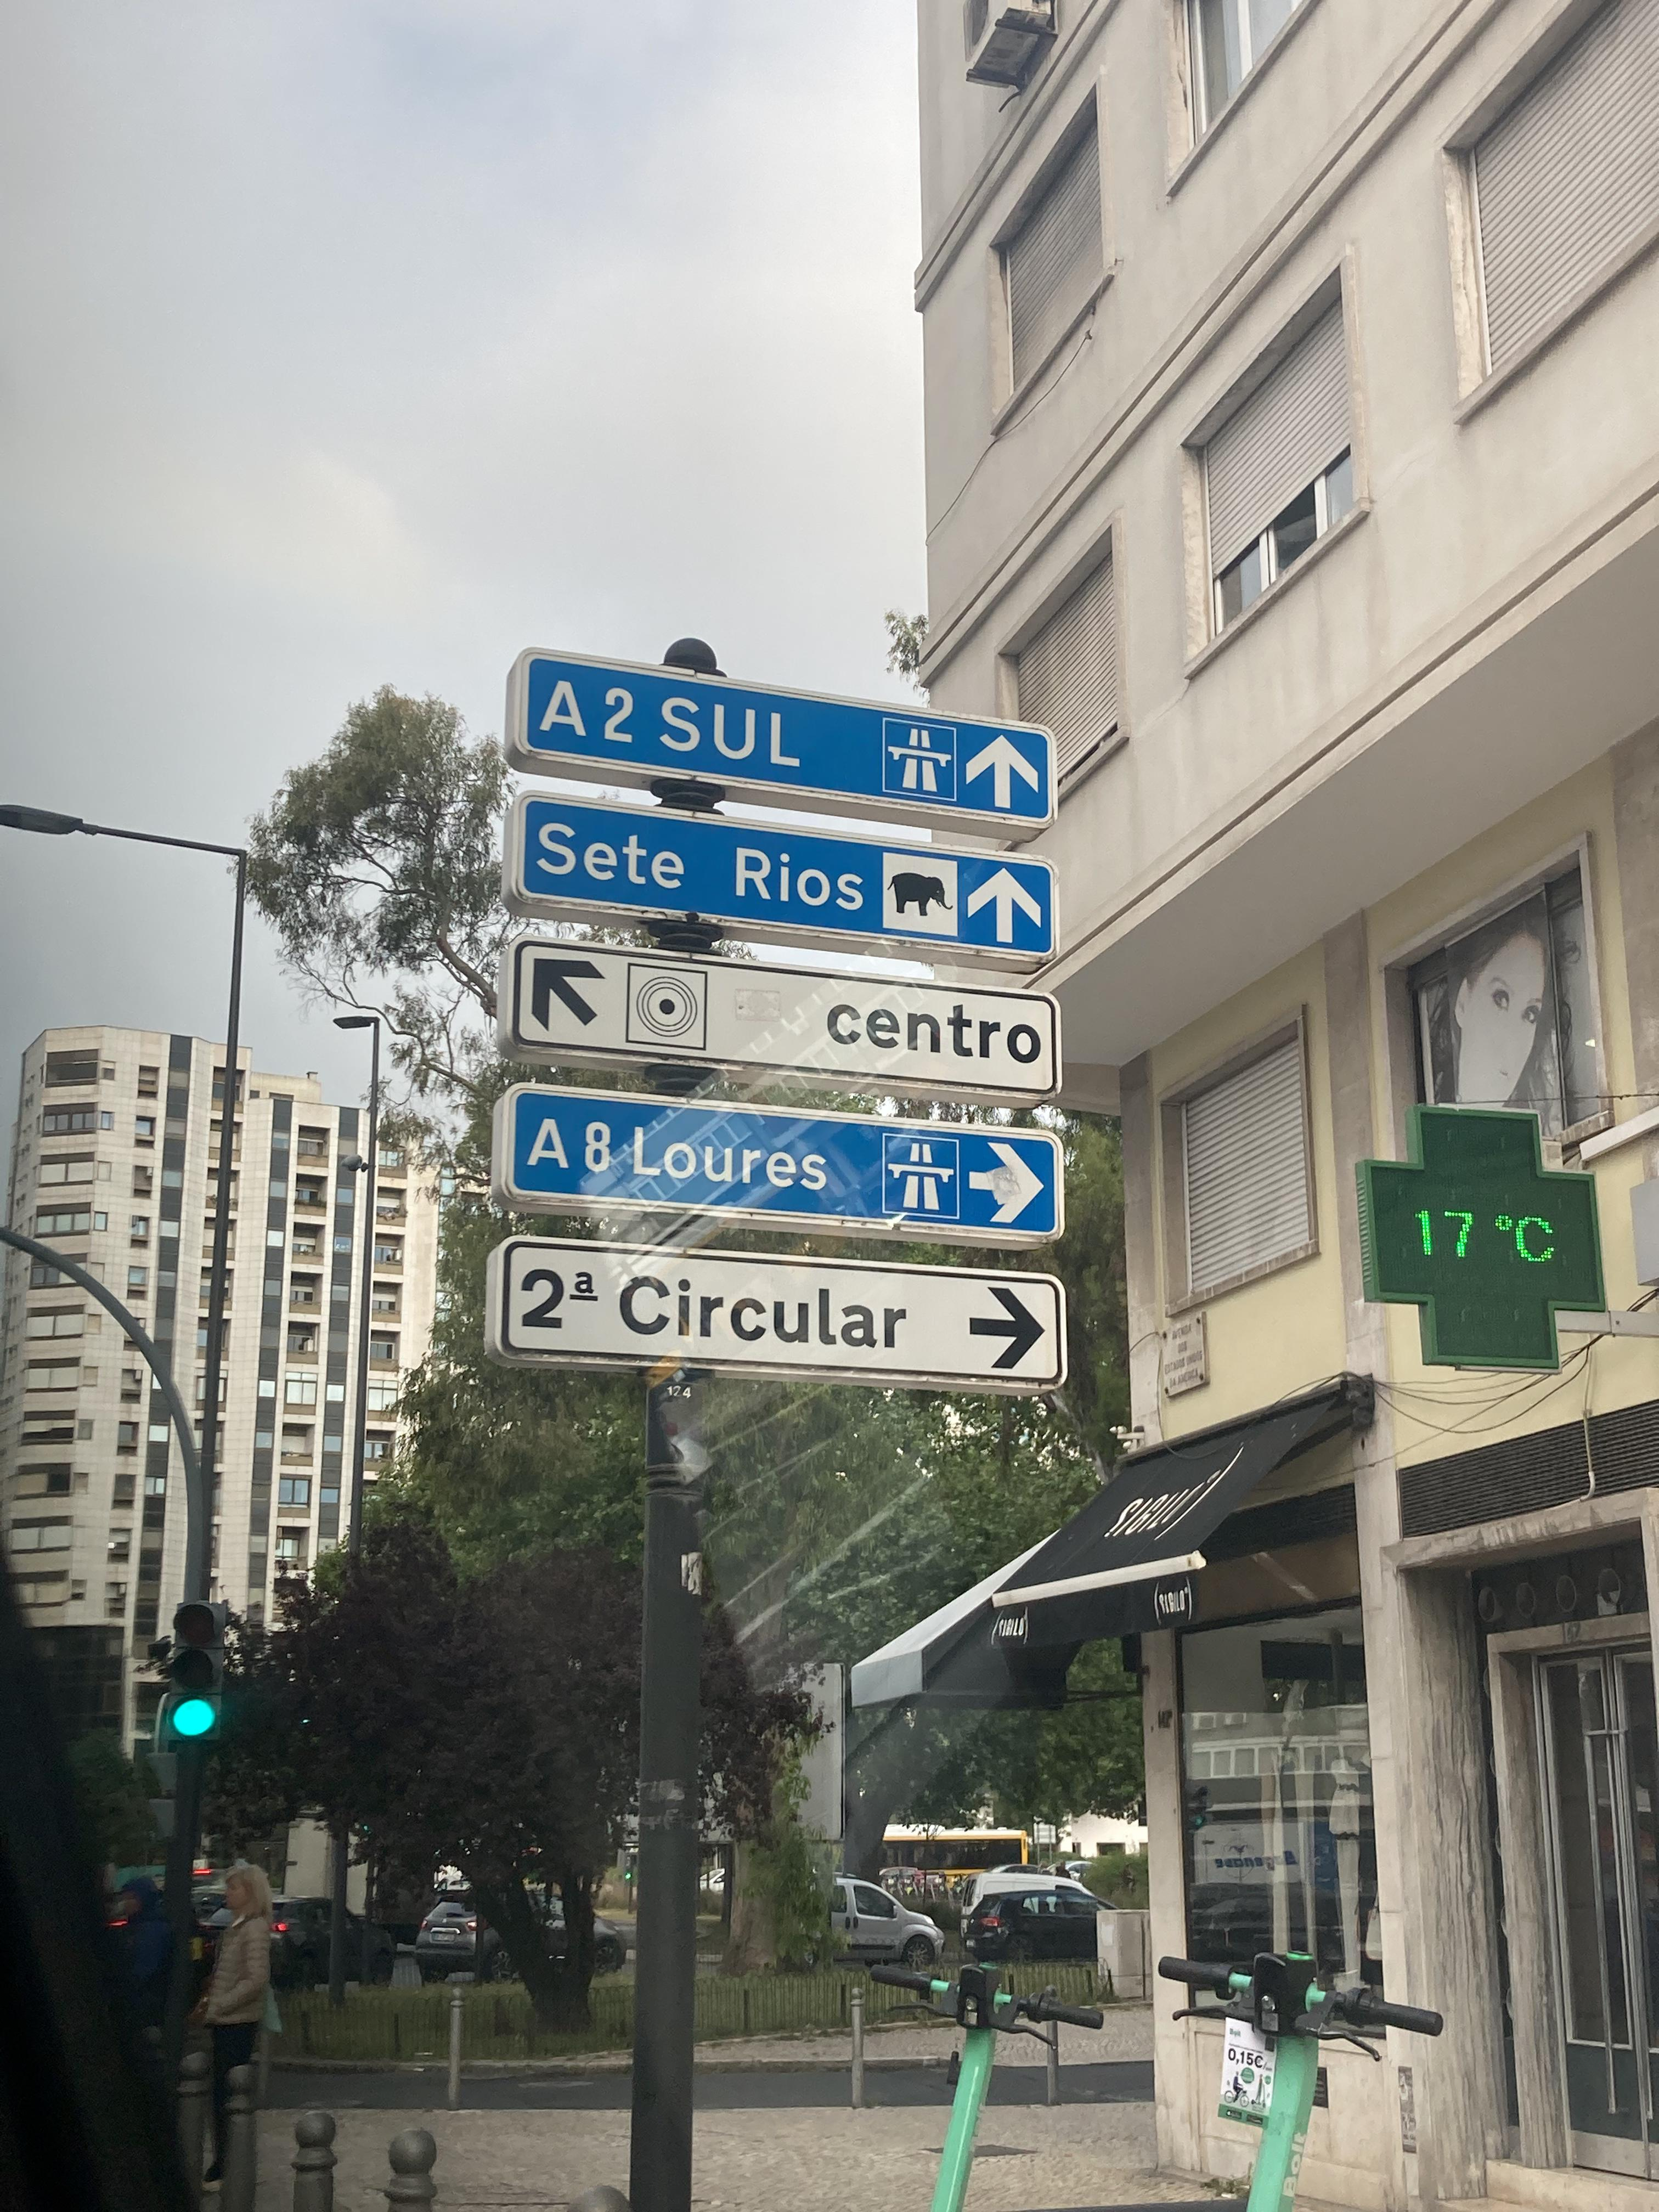pre-aviso grafico: (479, 651, 1094, 1404)
